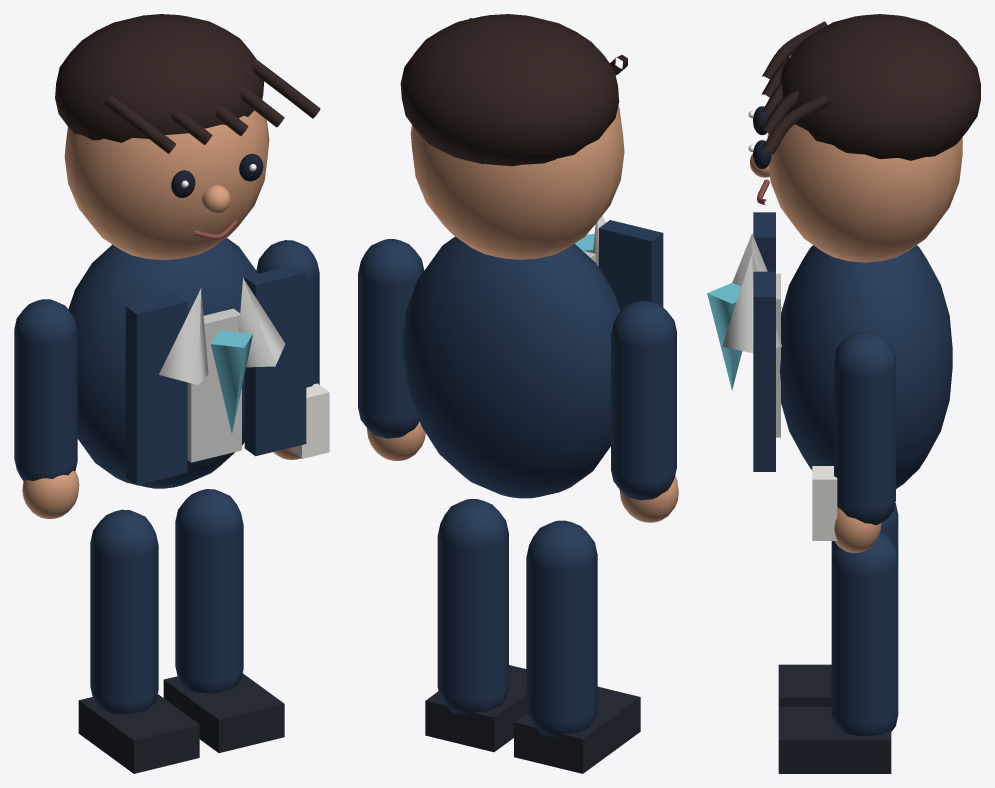
File: profile-zack.glb
The picture shows the model from 3 angles, left to right: view 1: azimuth 30°, elevation 25°; view 2: azimuth 150°, elevation 25°; view 3: azimuth 270°, elevation 25°; orthographic projection. The views are drawn at different scales.
Parts seen in each view (by area): view 1: jacket-panel (×2), hair-crown, face, tailored-torso, right-leg-mesh, left-leg-mesh, left-sleeve, left-shoe, right-shoe, lapel (×2), shirt-panel, right-sleeve (+8 smaller); view 2: tailored-torso, hair-crown, face, left-leg-mesh, right-leg-mesh, left-sleeve, right-sleeve, left-shoe, jacket-panel, right-shoe, left-hand-mesh, right-hand-mesh; view 3: tailored-torso, hair-crown, face, right-leg-mesh, right-sleeve, right-shoe, jacket-panel (×2), lapel (×2), left-shoe, coffee-cup, blue-tie, right-hand-mesh (+5 smaller).
Boxes of the visible parts, left/top/right/bottom form: jacket-panel (×2): left=125, top=264, right=306, bottom=485; hair-crown: left=55, top=14, right=264, bottom=142; face: left=64, top=110, right=269, bottom=259; tailored-torso: left=68, top=238, right=257, bottom=488; right-leg-mesh: left=175, top=489, right=243, bottom=693; left-leg-mesh: left=90, top=509, right=158, bottom=714; left-sleeve: left=14, top=299, right=77, bottom=480; left-shoe: left=78, top=694, right=199, bottom=773; right-shoe: left=163, top=673, right=284, bottom=752; lapel (×2): left=159, top=278, right=285, bottom=385; shirt-panel: left=187, top=308, right=241, bottom=462; right-sleeve: left=256, top=240, right=319, bottom=387; tailored-torso: left=402, top=236, right=620, bottom=498; hair-crown: left=400, top=14, right=619, bottom=166; face: left=410, top=106, right=624, bottom=259; left-leg-mesh: left=526, top=520, right=597, bottom=737; right-leg-mesh: left=437, top=499, right=508, bottom=715; left-sleeve: left=611, top=300, right=676, bottom=500; right-sleeve: left=358, top=239, right=424, bottom=438; left-shoe: left=514, top=686, right=640, bottom=773; jacket-panel: left=598, top=220, right=663, bottom=310; right-shoe: left=425, top=665, right=527, bottom=752; left-hand-mesh: left=619, top=476, right=678, bottom=522; right-hand-mesh: left=367, top=421, right=425, bottom=460; tailored-torso: left=779, top=245, right=952, bottom=488; hair-crown: left=780, top=14, right=980, bottom=160; face: left=767, top=124, right=962, bottom=262; right-leg-mesh: left=831, top=532, right=898, bottom=736; right-sleeve: left=834, top=331, right=895, bottom=525; right-shoe: left=778, top=707, right=891, bottom=773; jacket-panel (×2): left=753, top=212, right=775, bottom=471; lapel (×2): left=722, top=233, right=781, bottom=352; left-shoe: left=778, top=664, right=831, bottom=706; coffee-cup: left=812, top=466, right=837, bottom=540; blue-tie: left=707, top=283, right=742, bottom=390; right-hand-mesh: left=834, top=507, right=881, bottom=552.
Size of the model in its own units: 1.4 by 3.11 by 1.09.
